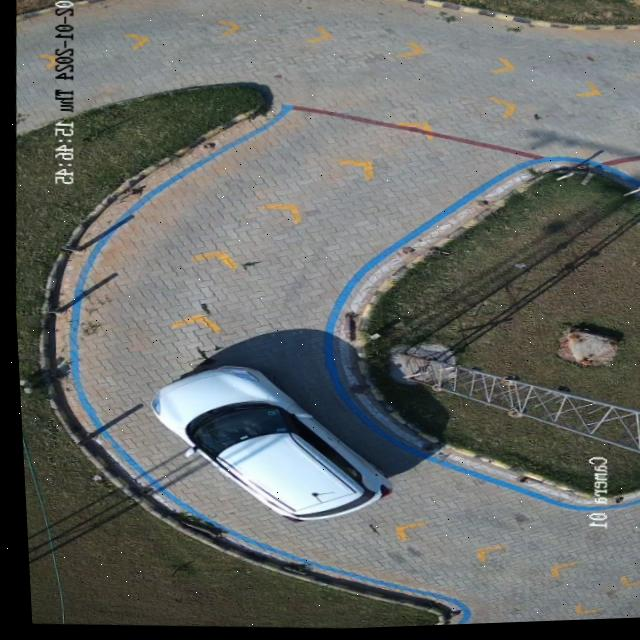car: (147, 367, 387, 522)
